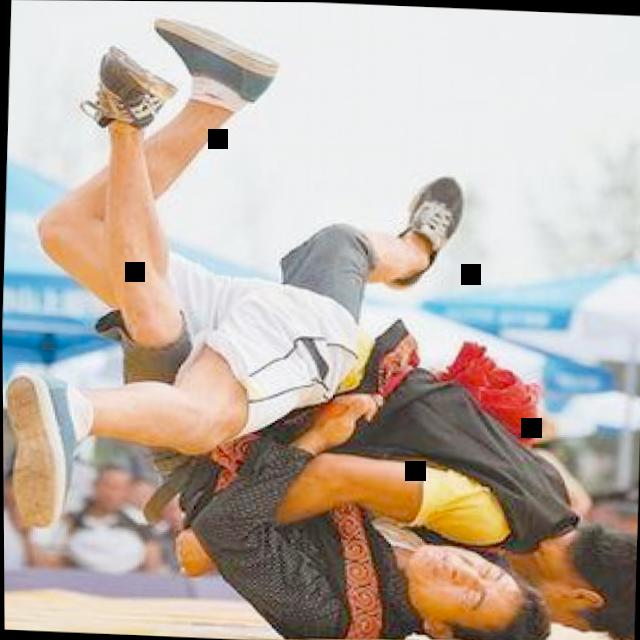Fall-Detected: (0, 60, 472, 541)
